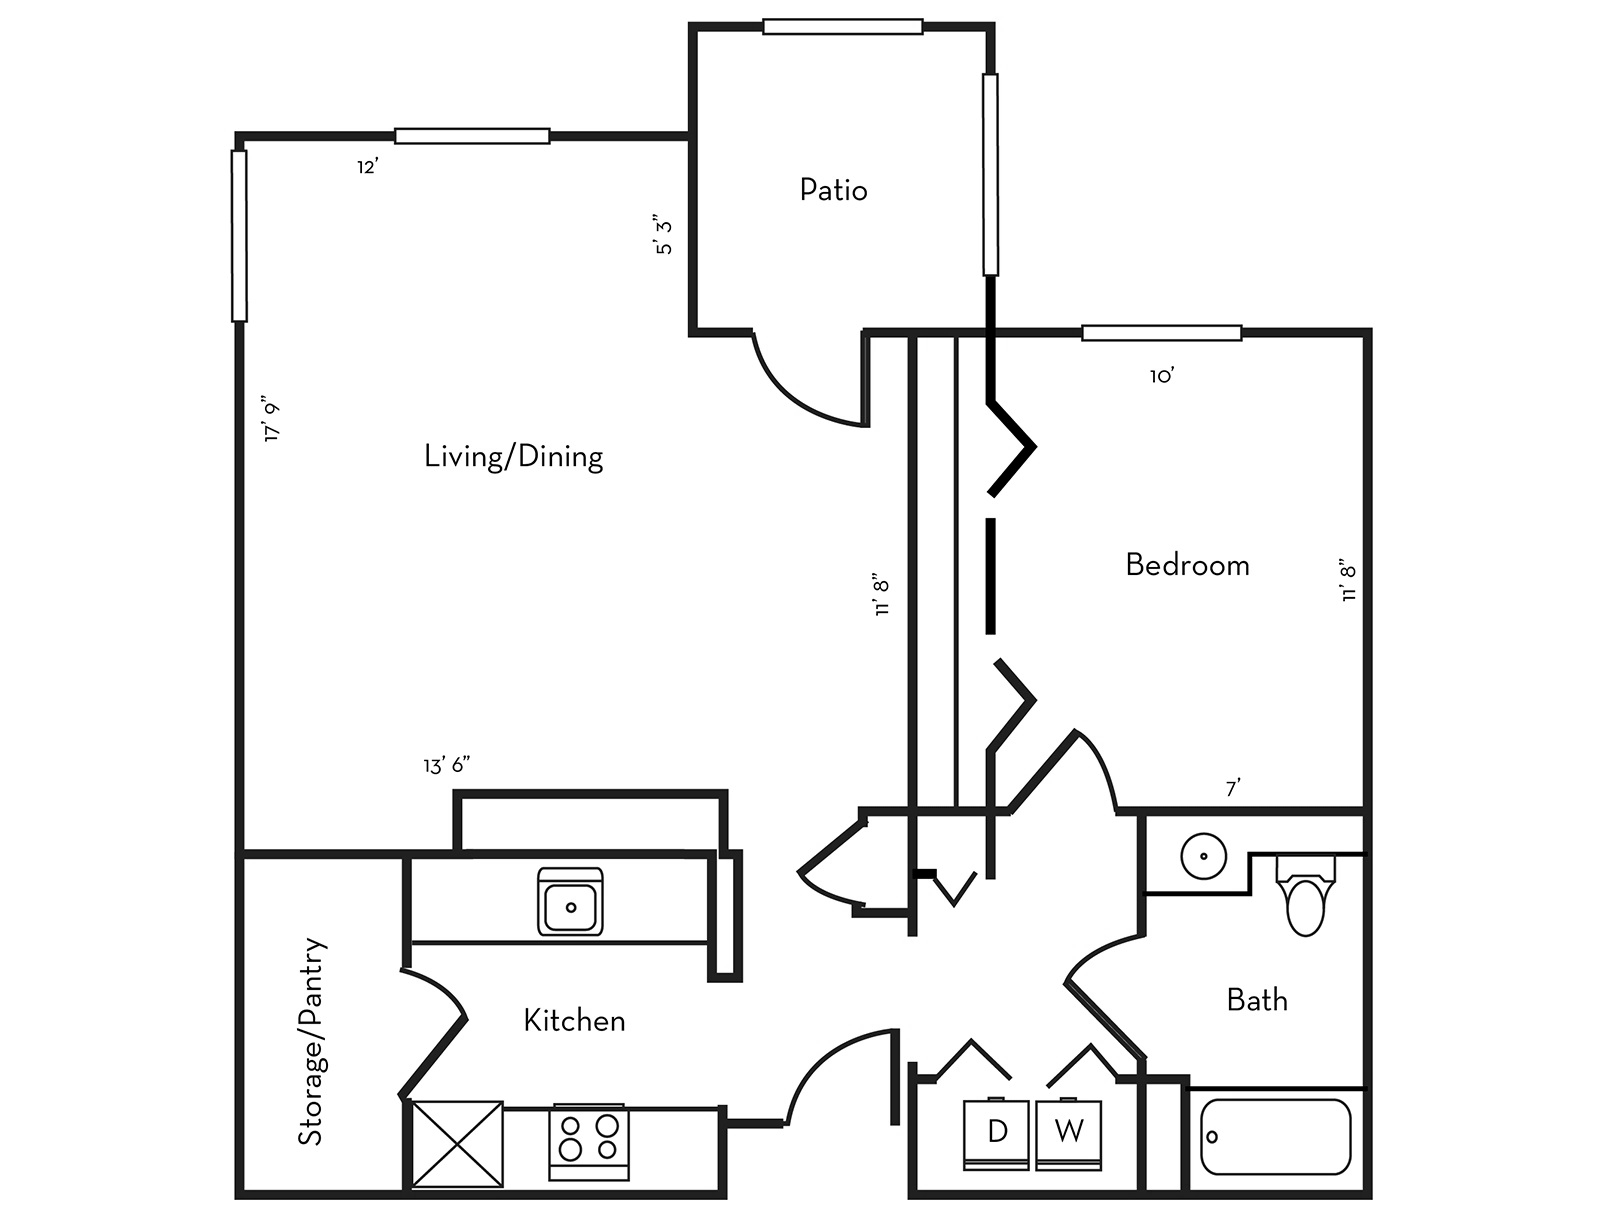door: (776, 1000, 909, 1119), (394, 968, 527, 1087), (741, 346, 885, 455), (1042, 932, 1157, 1050), (1009, 718, 1123, 822), (789, 817, 885, 932)
